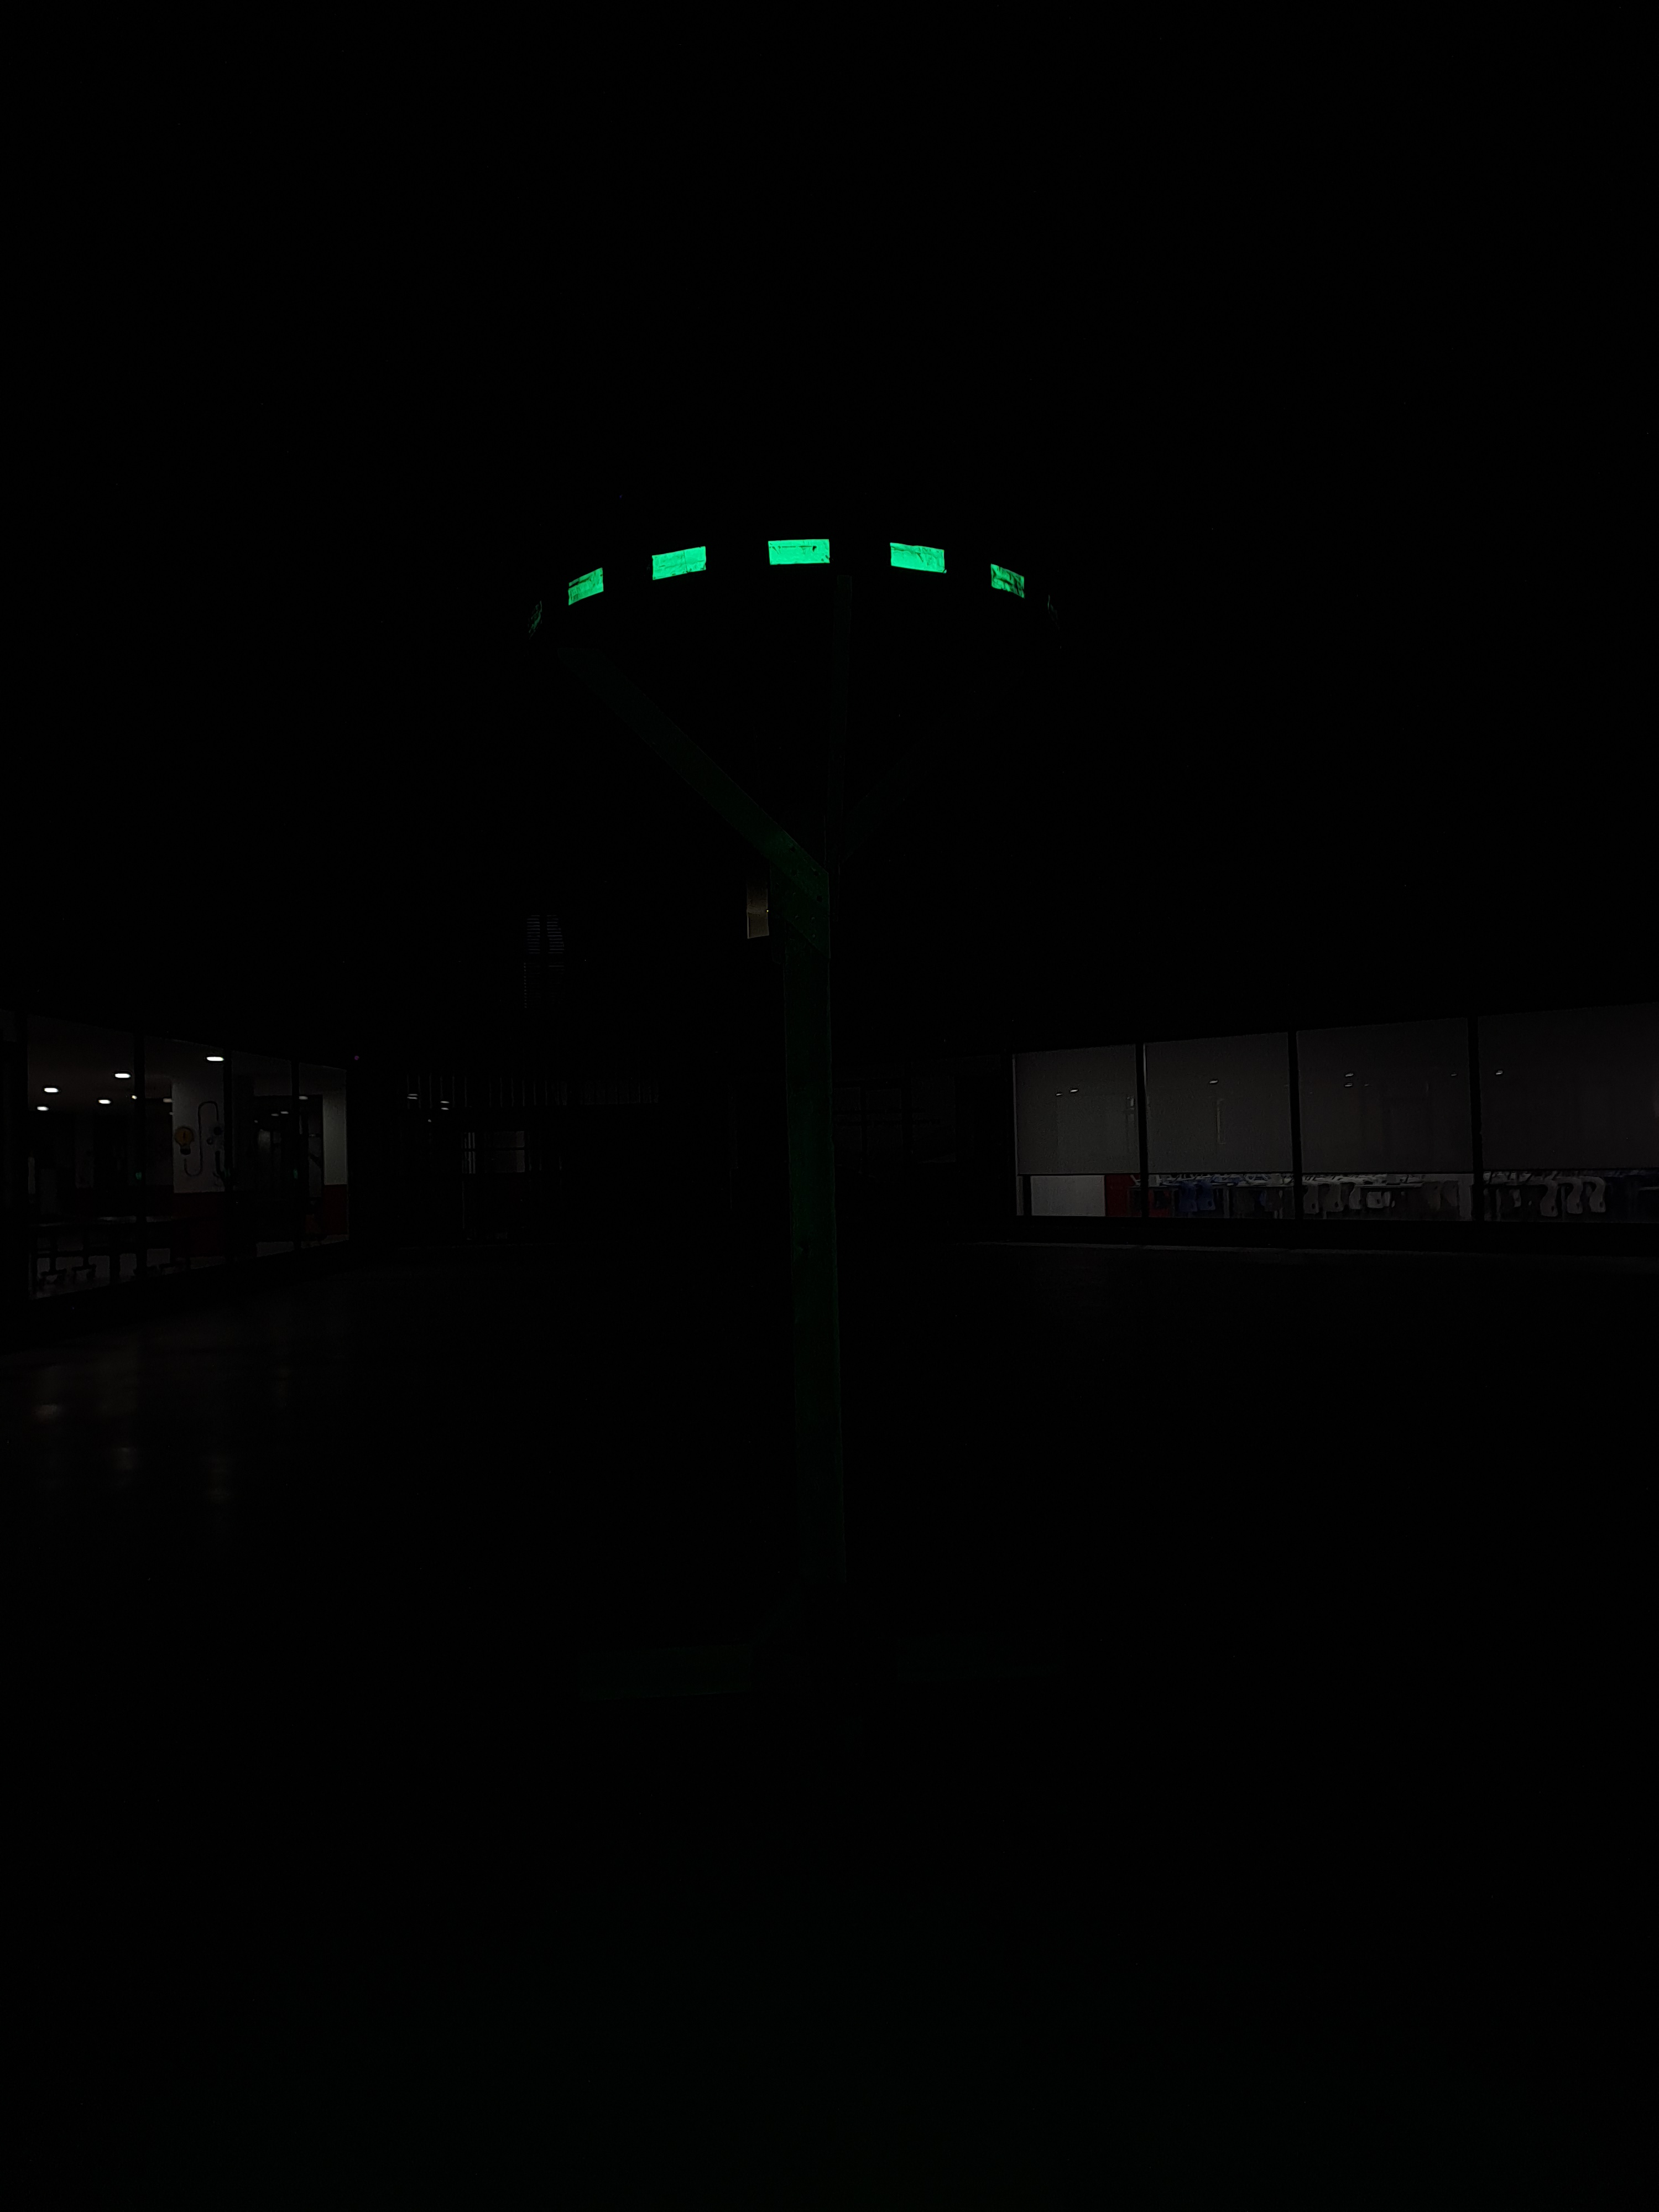hoop: (563, 531, 1030, 620)
